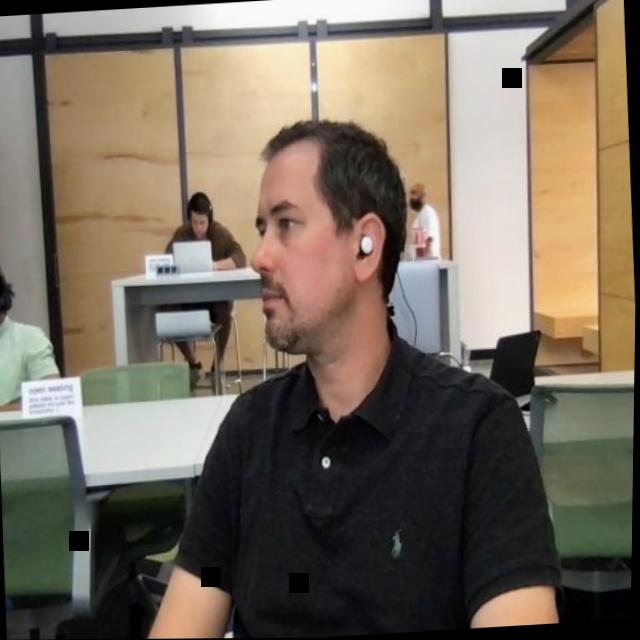Mask: (407, 180, 426, 216)
NO-Mask: (246, 110, 419, 362), (0, 249, 17, 345), (185, 191, 217, 241)
